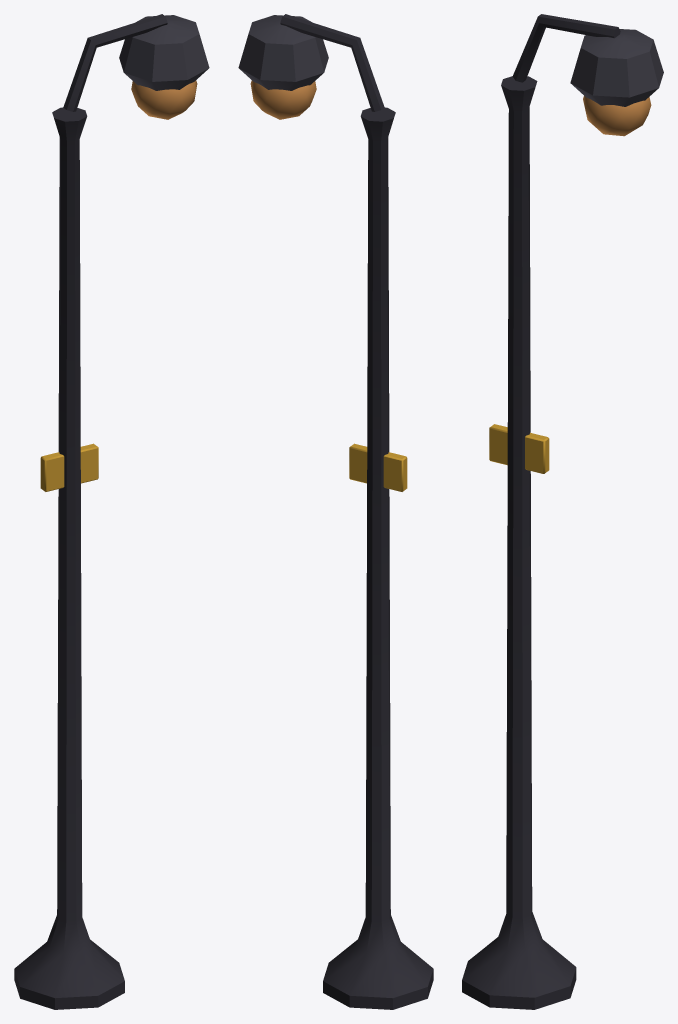
The model's file is lamp_post.glb.
3 renders of one model, left to right at view 1: azimuth 30°, elevation 25°; view 2: azimuth 150°, elevation 25°; view 3: azimuth 330°, elevation 25°, orthographic. The views are drawn at different scales.
Parts seen in each view (by area): view 1: lamp_post; view 2: lamp_post; view 3: lamp_post.
Boxes of the visible parts, x1,y1,x2,y2 form: lamp_post: [14, 14, 209, 1009]; lamp_post: [238, 14, 433, 1009]; lamp_post: [462, 14, 663, 1009].
Size of the model in its own units: 0.82 by 4.02 by 0.44.
